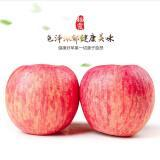apple: (79, 65, 153, 137), (5, 65, 79, 136)
